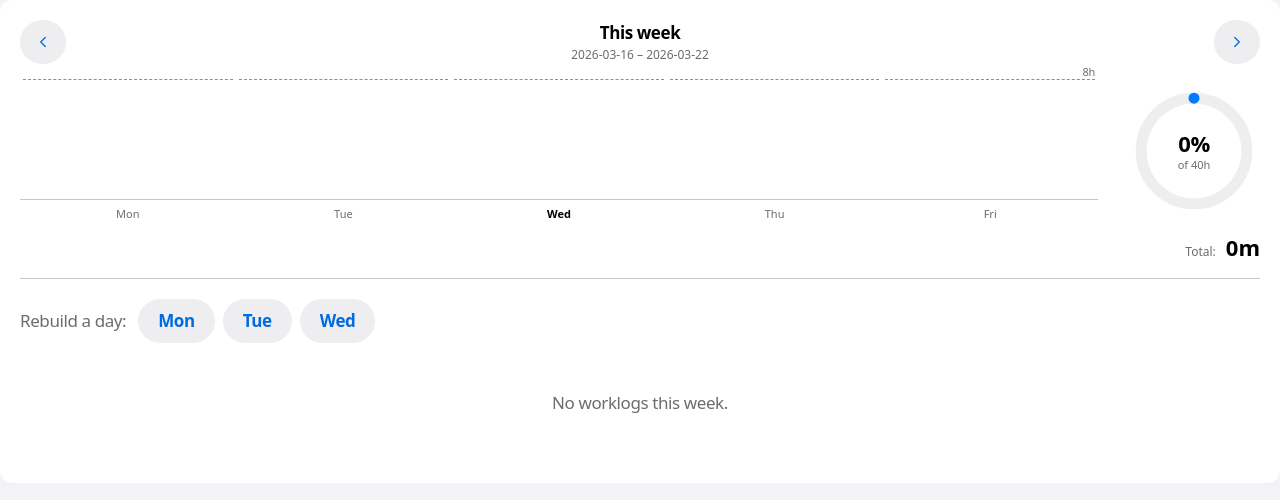
moving between weeks › comes forward again once it is behind
This screenshot has width=1280, height=500.
What coordinates should you click on to do the following:
click the button named "Previous week"
I would click on:
 (43, 42)
Its box is x1=20 y1=20 x2=66 y2=64.
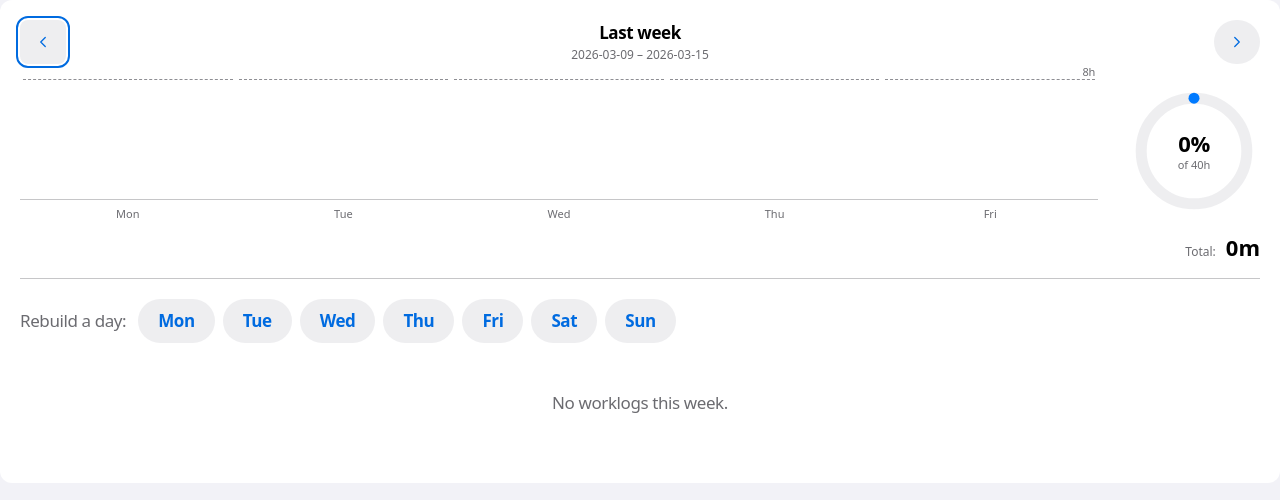
expect the text "Last week" is shown: met, box x1=599 y1=22 x2=681 y2=44
What coordinates should you click on to do the following:
click the button named "Next week"
I would click on:
 (1237, 42)
Its box is x1=1214 y1=20 x2=1260 y2=64.
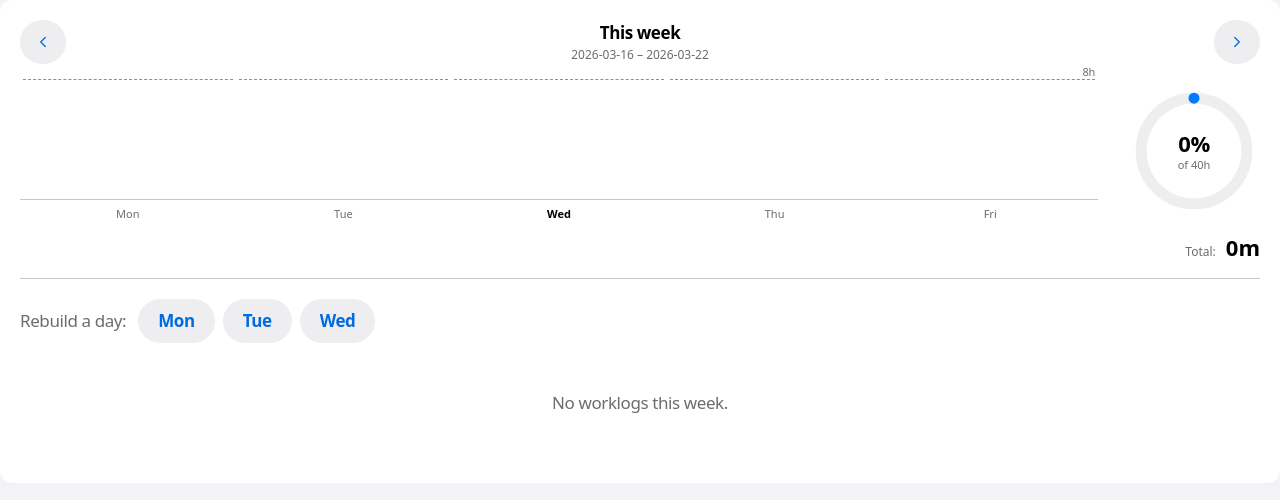
expect the text "This week" is shown: met, box x1=600 y1=22 x2=680 y2=44
